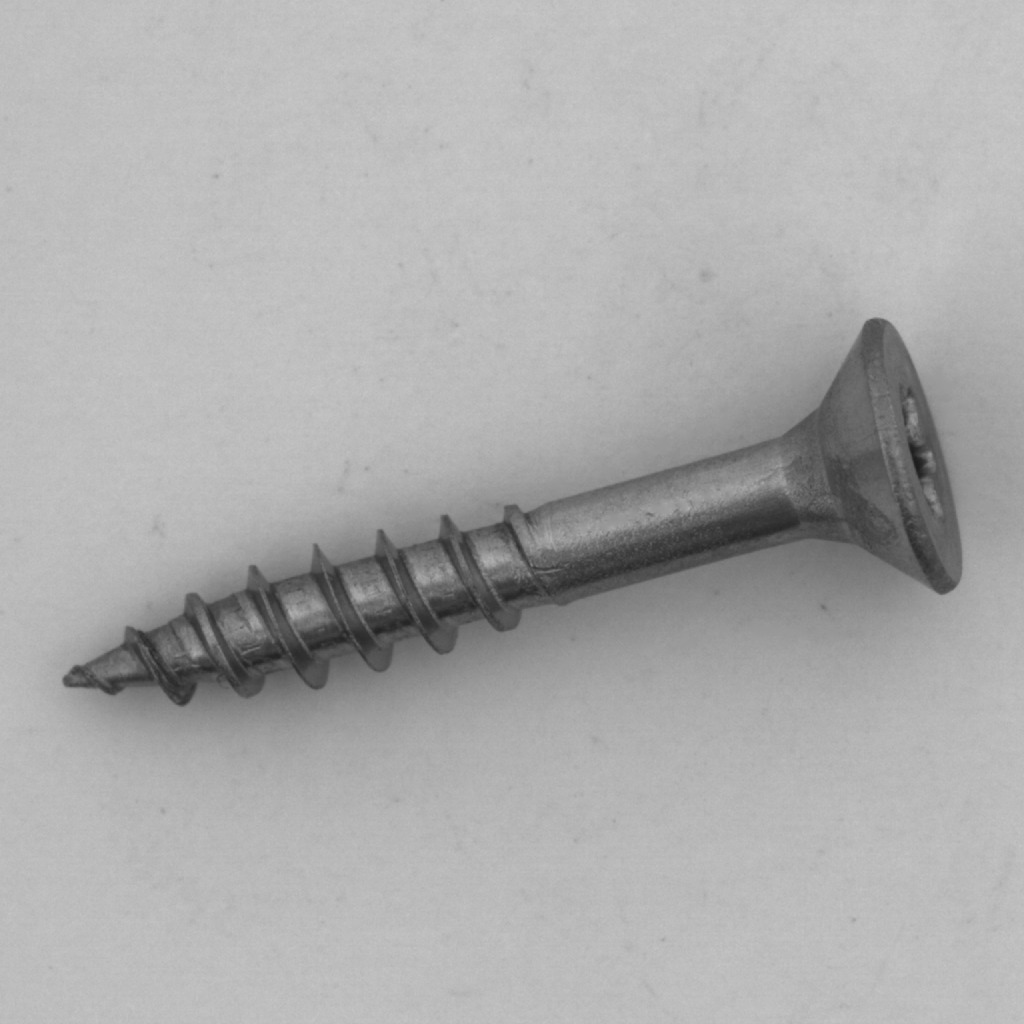good: (43, 303, 983, 734)
